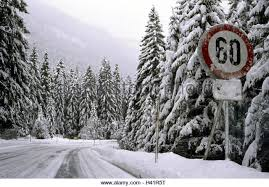Speed_limit_60km: (199, 22, 257, 79)
